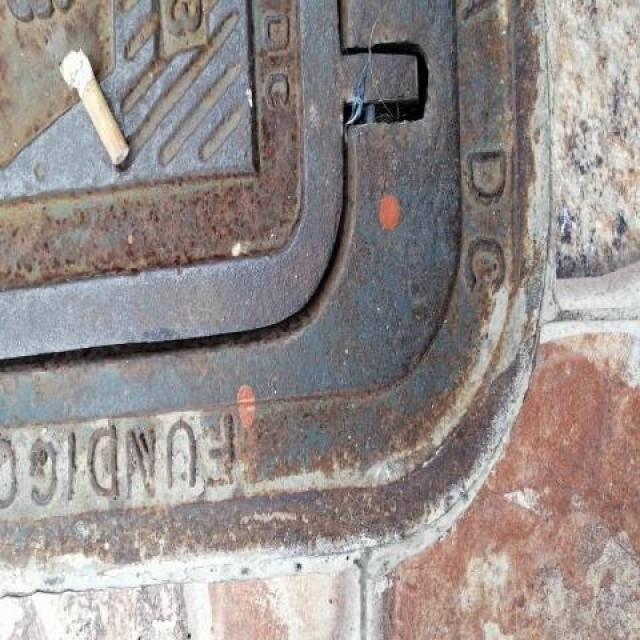non-organic waste: (56, 46, 132, 170)
